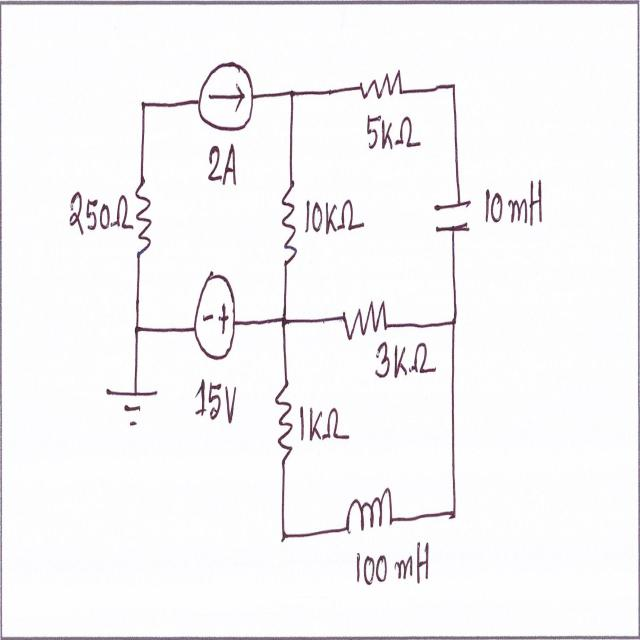capacitor: (432, 191, 473, 245)
current_source: (194, 51, 258, 141)
ground: (102, 380, 162, 440)
inductor: (341, 476, 398, 543)
resistor: (131, 158, 160, 272), (274, 169, 304, 271), (354, 57, 406, 110), (270, 370, 297, 469), (338, 292, 390, 343)
voltage_source: (190, 259, 240, 368)
